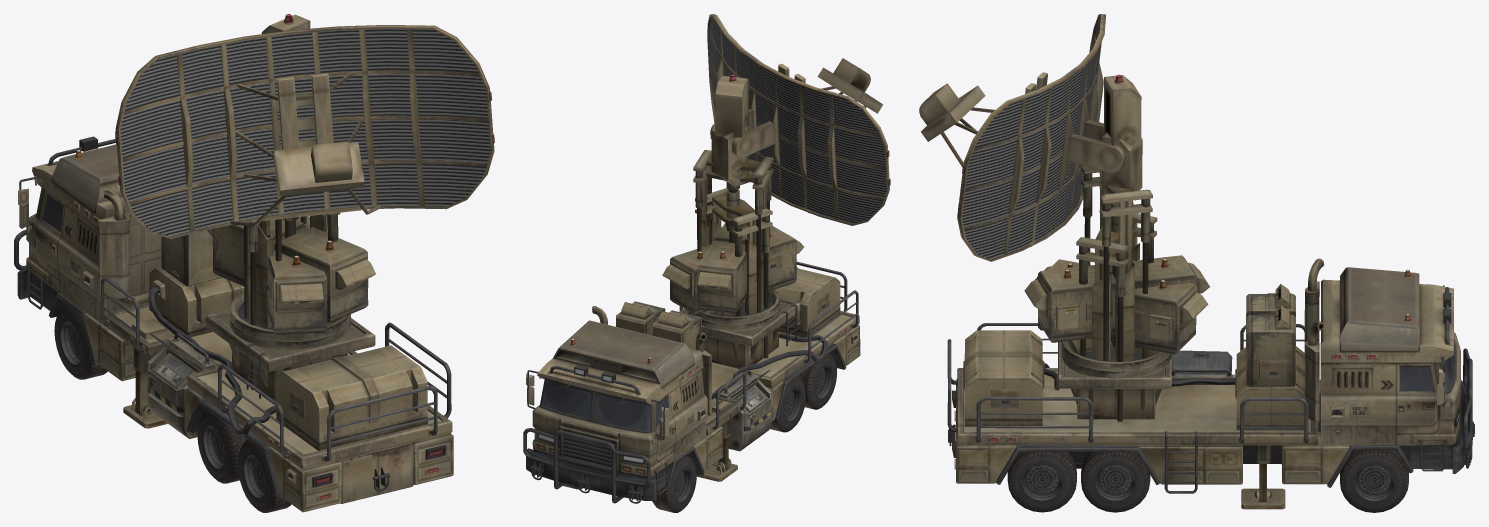
3 renders of one model, left to right at view 1: azimuth 30°, elevation 25°; view 2: azimuth 150°, elevation 25°; view 3: azimuth 270°, elevation 25°, orthographic. The views are drawn at different scales.
Parts seen in each view (by area): view 1: body|39fb2619_dds, body|e4f450d1_dds, body|43433fc7_dds, body|0d5d4022_dds, body|003b23eb_dds, body|858ada53_dds, body|e0c5b681_dds; view 2: body|39fb2619_dds, body|43433fc7_dds, body|e4f450d1_dds, body|0d5d4022_dds, body|e0c5b681_dds, body|003b23eb_dds; view 3: body|39fb2619_dds, body|43433fc7_dds, body|e4f450d1_dds, body|0d5d4022_dds, body|e0c5b681_dds.
Boxes of the visible parts, left/top/right/bottom form: body|39fb2619_dds: left=49, top=14, right=494, bottom=512; body|e4f450d1_dds: left=120, top=28, right=490, bottom=236; body|43433fc7_dds: left=14, top=131, right=446, bottom=501; body|0d5d4022_dds: left=54, top=305, right=291, bottom=512; body|003b23eb_dds: left=74, top=14, right=494, bottom=499; body|858ada53_dds: left=155, top=355, right=192, bottom=386; body|e0c5b681_dds: left=42, top=194, right=63, bottom=232; body|39fb2619_dds: left=570, top=14, right=890, bottom=487; body|43433fc7_dds: left=523, top=301, right=858, bottom=503; body|e4f450d1_dds: left=709, top=17, right=886, bottom=223; body|0d5d4022_dds: left=558, top=353, right=836, bottom=512; body|e0c5b681_dds: left=540, top=380, right=669, bottom=430; body|003b23eb_dds: left=538, top=74, right=890, bottom=474; body|39fb2619_dds: left=919, top=14, right=1413, bottom=509; body|43433fc7_dds: left=948, top=267, right=1474, bottom=493; body|e4f450d1_dds: left=962, top=18, right=1101, bottom=259; body|0d5d4022_dds: left=1007, top=450, right=1408, bottom=512; body|e0c5b681_dds: left=1400, top=356, right=1453, bottom=391.
Size of the model in its own units: 5.77 by 8.29 by 10.02.
Materials: 8 (7 with a texture image).
